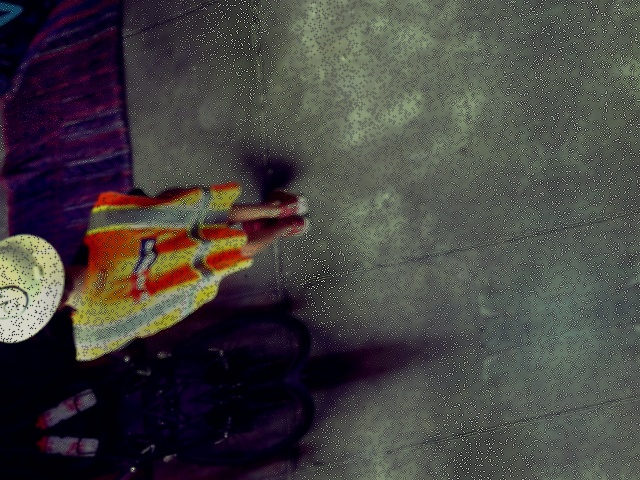three: (0, 281, 28, 323)
